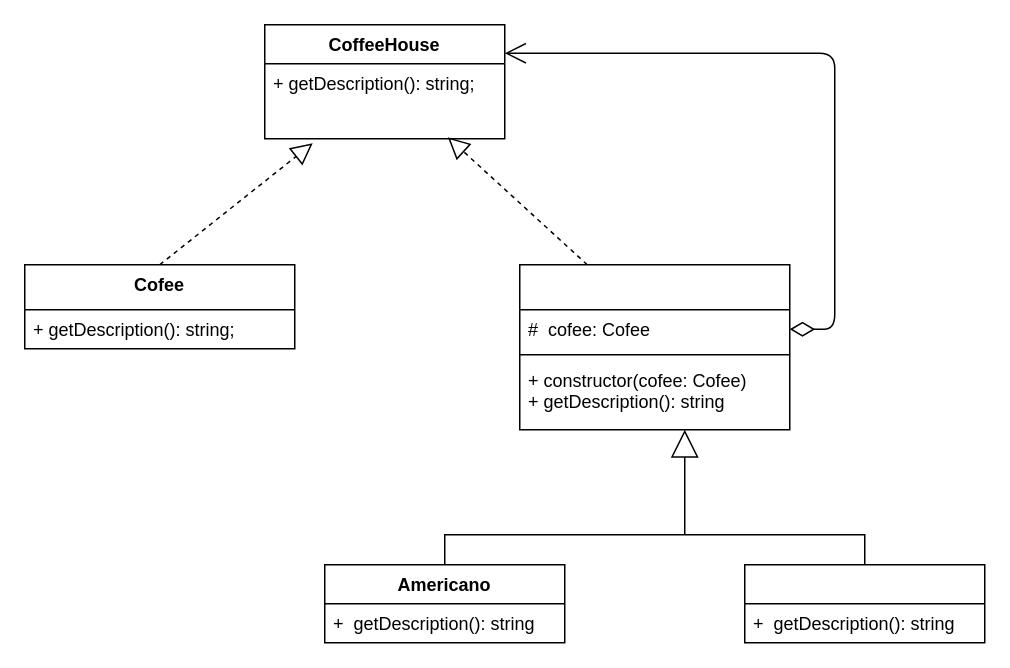
The diagram is 1010 pixels wide and 668 high, and some of its shapes have lost their labels. Each missing label, with the box of its shape:
Capucinno: (743, 563, 985, 643)
Decorator: (518, 263, 790, 430)
